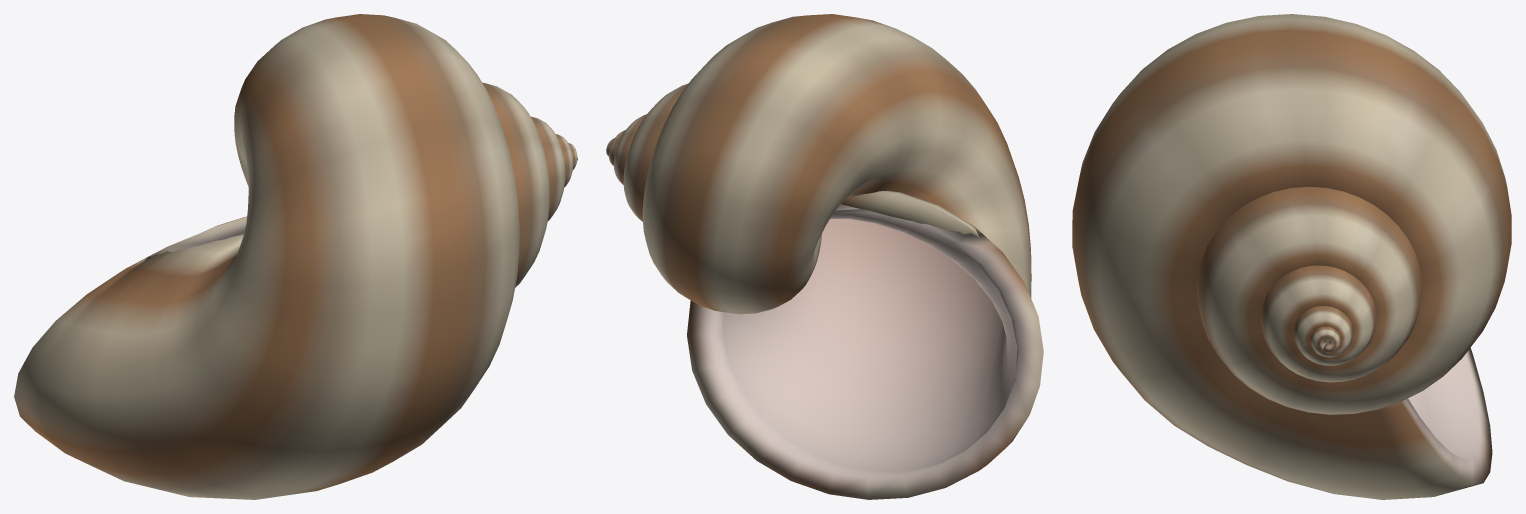
Rendered from Coast_Conch.fbx.
3 renders of one model, left to right at view 1: azimuth 30°, elevation 25°; view 2: azimuth 150°, elevation 25°; view 3: azimuth 270°, elevation 25°, orthographic. The views are drawn at different scales.
Parts seen in each view (by area): view 1: Coast_Conch; view 2: Coast_Conch; view 3: Coast_Conch.
Part boxes in pixels (x1,y1,x2,y2): Coast_Conch: (14, 14, 577, 499); Coast_Conch: (606, 14, 1043, 499); Coast_Conch: (1072, 14, 1511, 499).
Bounding box in the file's own units: 9.49 × 7.84 × 6.36.
